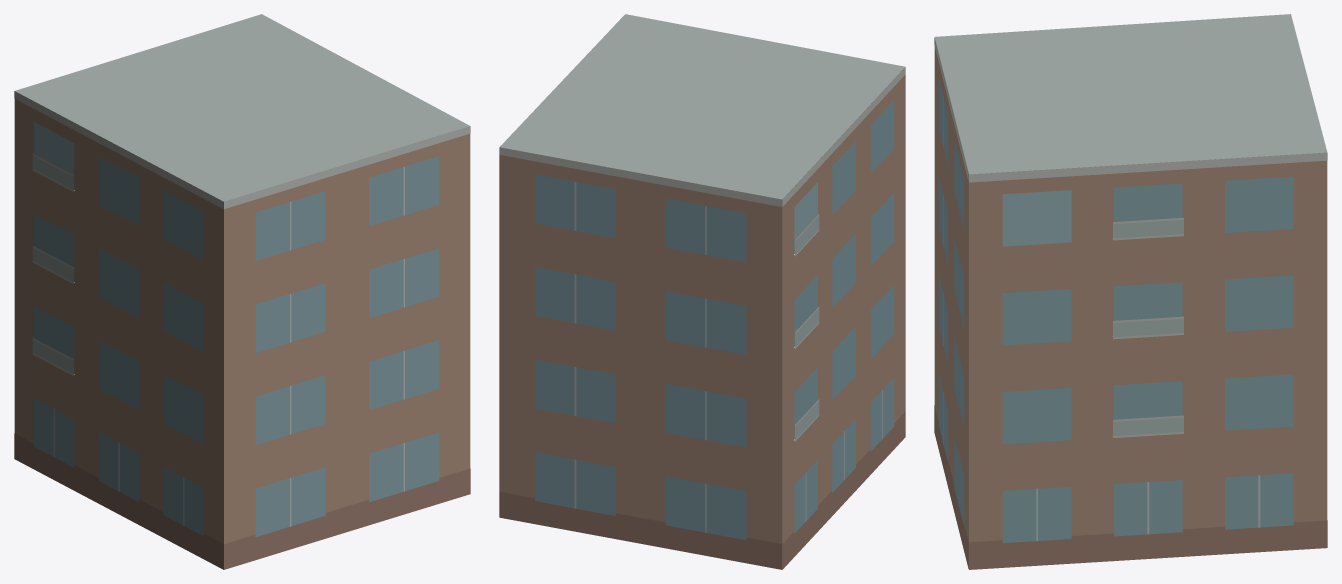
Rendered from survey-upis-32629819.glb.
3 renders of one model, left to right at view 1: azimuth 30°, elevation 25°; view 2: azimuth 150°, elevation 25°; view 3: azimuth 270°, elevation 25°, orthographic. The views are drawn at different scales.
Parts seen in each view (by area): view 1: survey-upis-32629819.tmp; view 2: survey-upis-32629819.tmp; view 3: survey-upis-32629819.tmp.
Boxes of the visible parts, x1=… form: survey-upis-32629819.tmp: x1=14, y1=14, x2=470, y2=569; survey-upis-32629819.tmp: x1=499, y1=14, x2=905, y2=569; survey-upis-32629819.tmp: x1=934, y1=14, x2=1327, y2=569.
Bounding box in the file's own units: 10.36 × 11.9 × 10.73.
